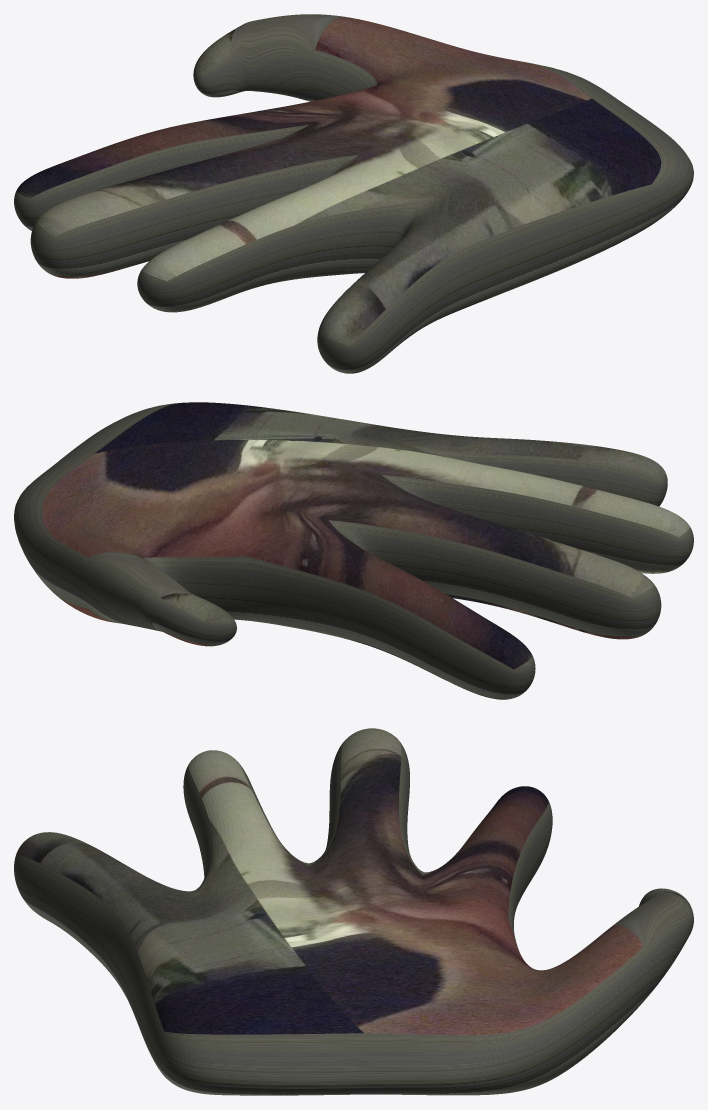
Rendered from hand8.fbx.
3 views of the same model, one above another, from view 1: azimuth 30°, elevation 25°; view 2: azimuth 150°, elevation 25°; view 3: azimuth 270°, elevation 25° (orthographic). The views are drawn at different scales.
Parts seen in each view (by area): view 1: Cube; view 2: Cube; view 3: Cube.
Part boxes in pixels (<box>): Cube: <box>14,14,693,373</box>; Cube: <box>14,402,693,699</box>; Cube: <box>14,728,693,1095</box>.
Bounding box in the file's own units: 316 × 55.83 × 279.
Materials: 1 (1 with a texture image).
